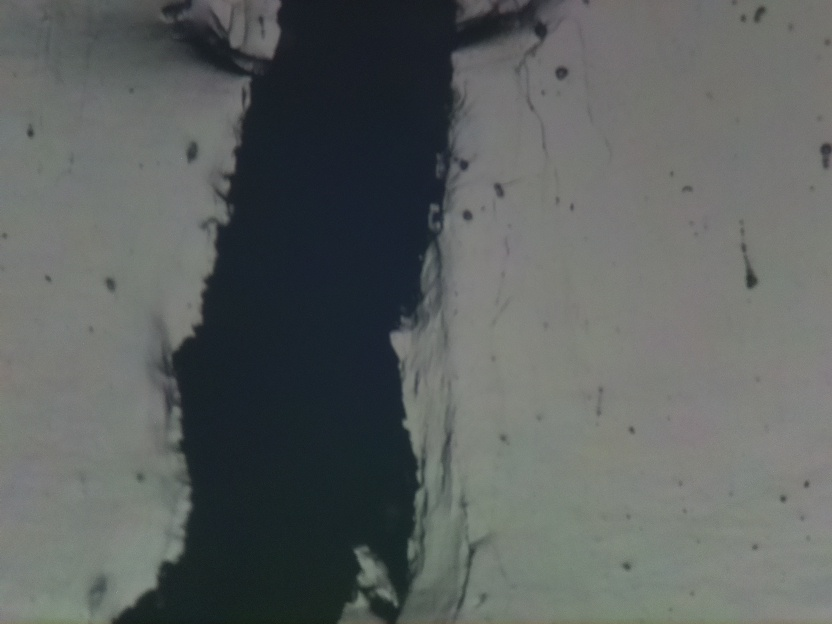crack: (109, 0, 456, 622)
